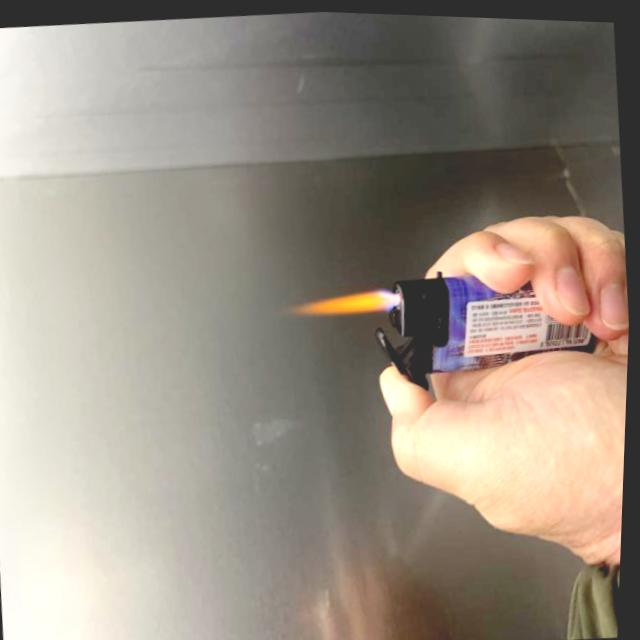Fire: (291, 281, 401, 315)
